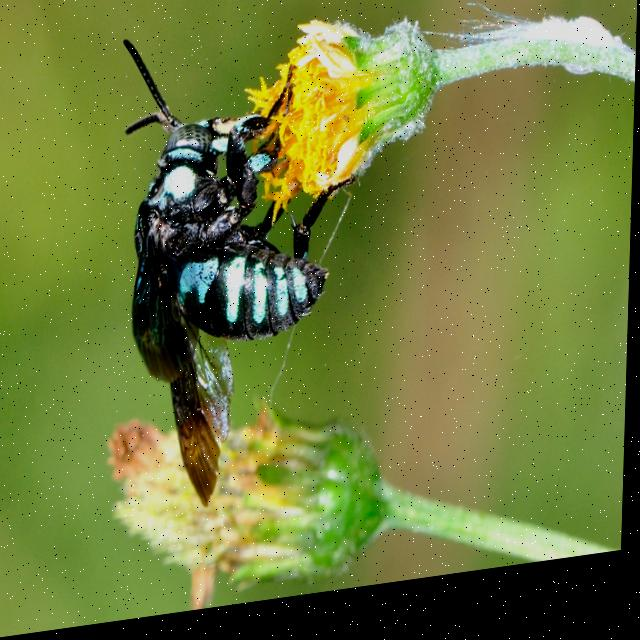Thyreus: (101, 0, 363, 529)
